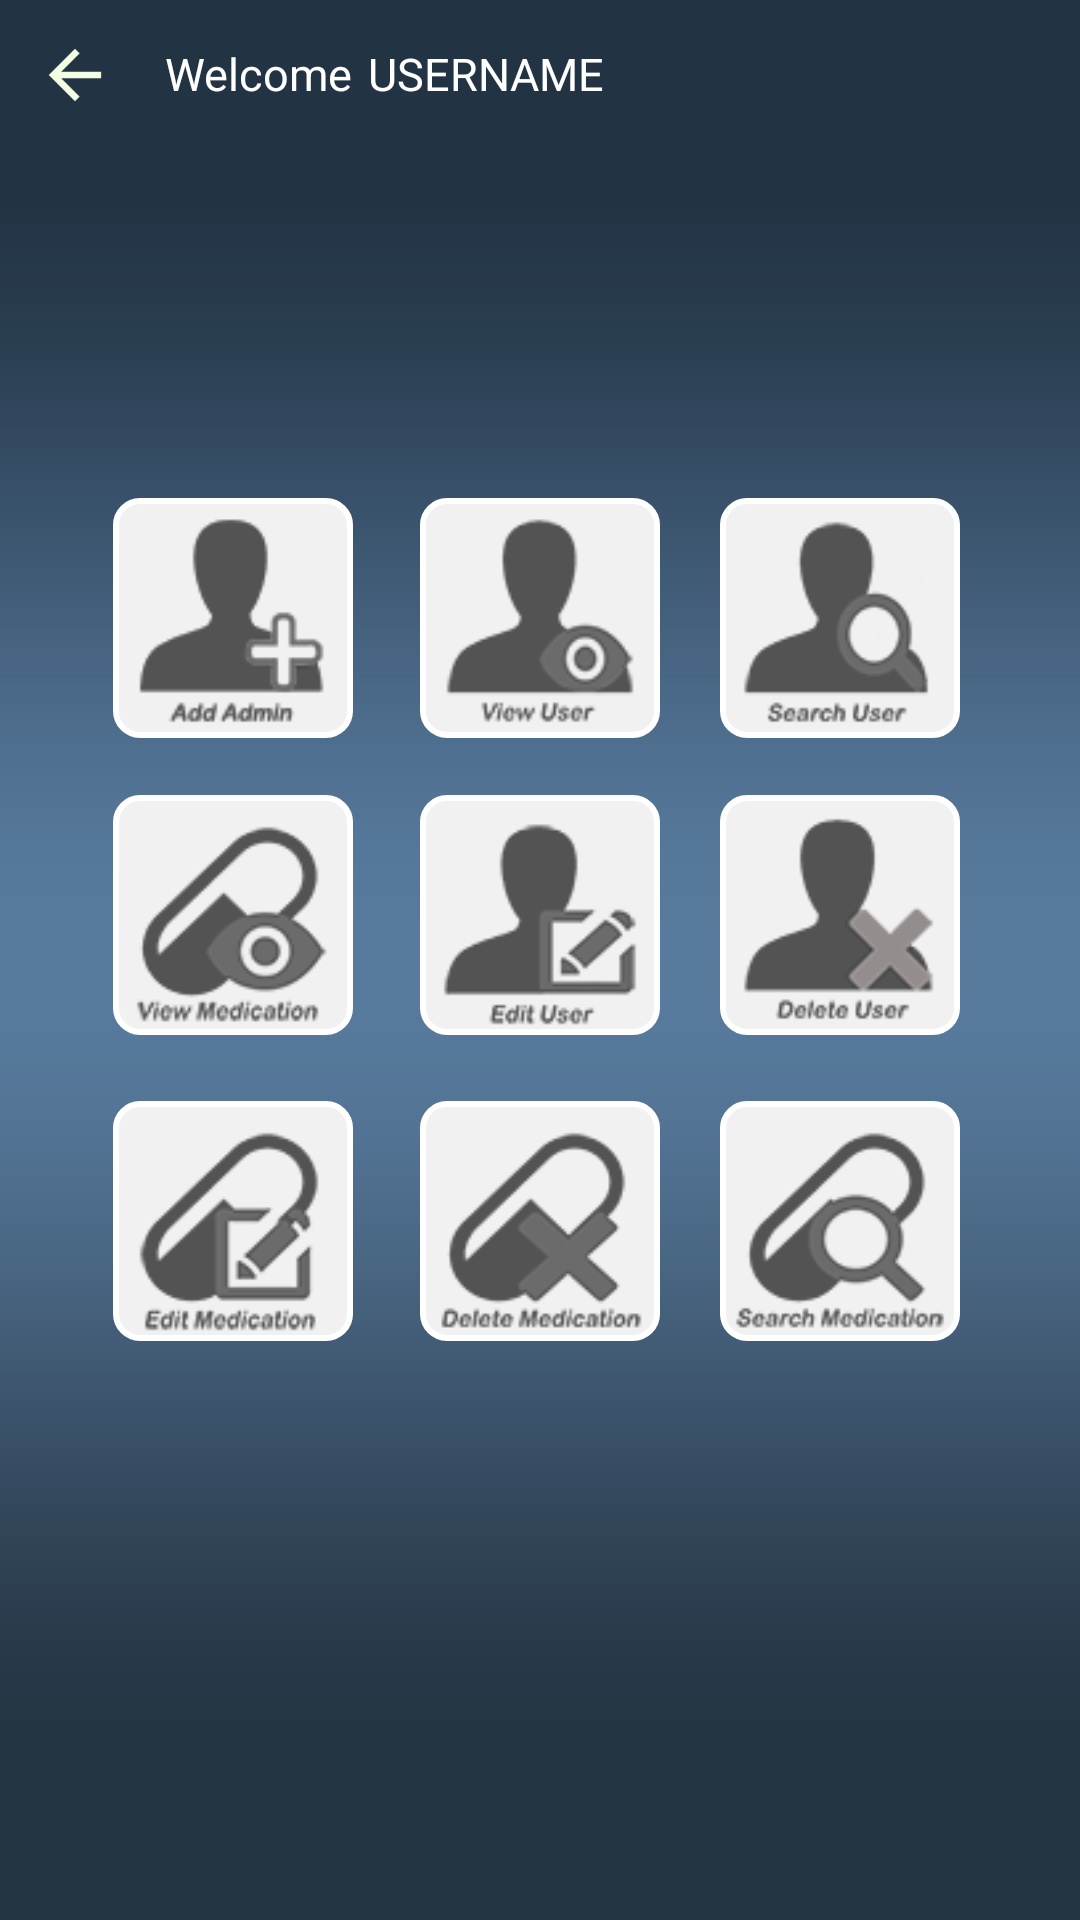

Icons on this 1080x1920 Android screen, each with its box as BBox(x1, y1, x2, y2):
arrow back: BBox(49, 49, 102, 101)
